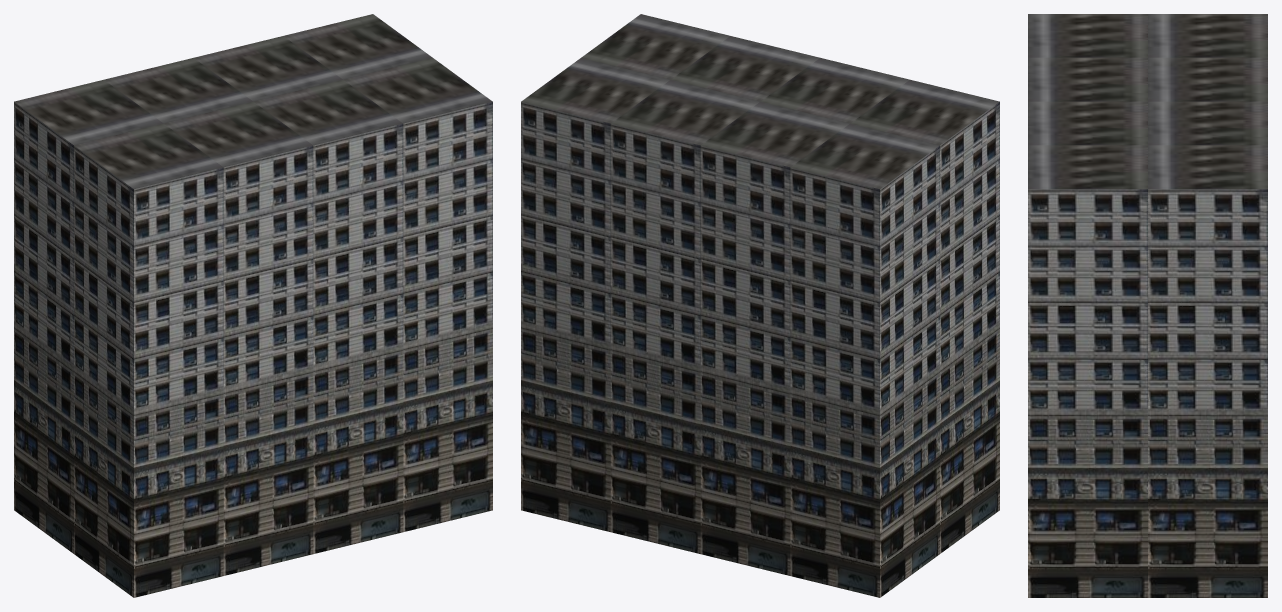
File: lic_apartment_9.glb
3 views of the same model, side by side, from view 1: azimuth 30°, elevation 25°; view 2: azimuth 150°, elevation 25°; view 3: azimuth 270°, elevation 25° (orthographic).
Visible parts, largest first — view 1: building; view 2: building; view 3: building.
Part boxes in pixels (box(x1,y1,x2,y2)): building: box(14, 14, 492, 597); building: box(521, 14, 999, 597); building: box(1028, 14, 1267, 597).
Size of the model in its own units: 27.58 by 30 by 15.94.
Materials: 1 (1 with a texture image).
